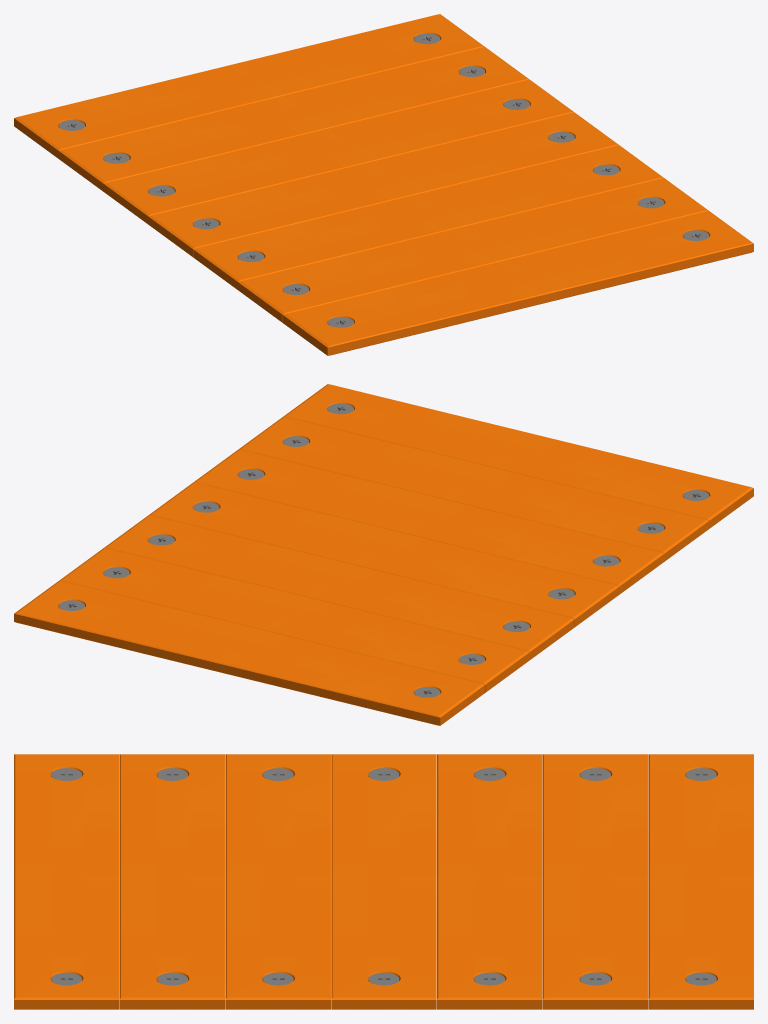
Rendered from BoltedPlankFloorYellow.fbx.
3 renders of one model, top to bottom at view 1: azimuth 30°, elevation 25°; view 2: azimuth 150°, elevation 25°; view 3: azimuth 270°, elevation 25°, orthographic. The views are drawn at different scales.
Visible parts, largest first — view 1: Cube, Cube.001; view 2: Cube, Cube.001; view 3: Cube, Cube.001.
Part boxes in pixels (left/top/right/bottom): Cube: left=14, top=14, right=753, bottom=355; Cube.001: left=58, top=33, right=709, bottom=327; Cube: left=14, top=384, right=753, bottom=725; Cube.001: left=58, top=403, right=709, bottom=697; Cube: left=14, top=754, right=753, bottom=1009; Cube.001: left=51, top=768, right=716, bottom=985.
Size of the model in its own units: 21.97 by 0.4885 by 27.99.
